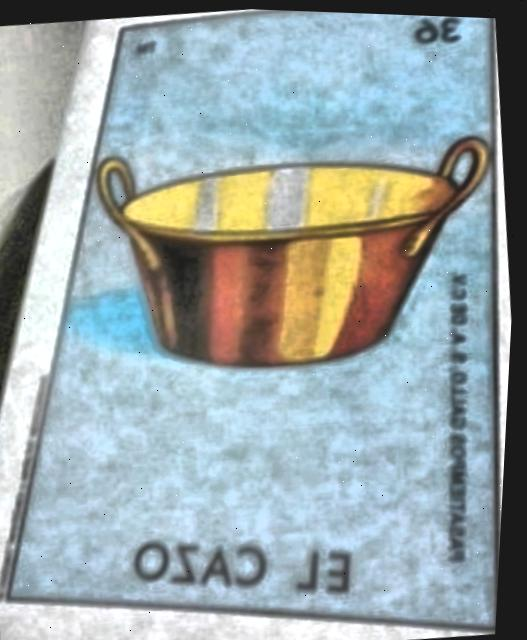El Cazo: (15, 9, 501, 624)
